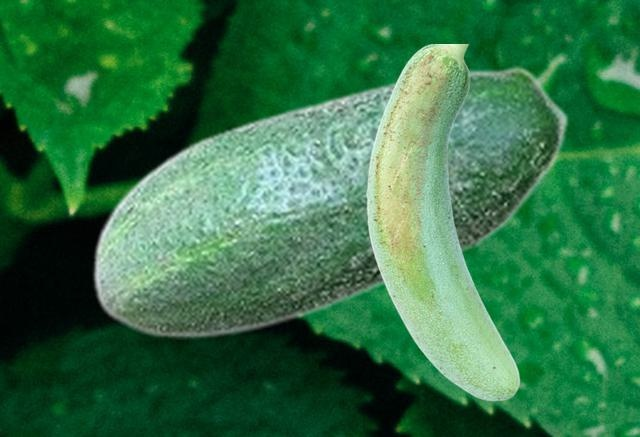cucumber: (91, 65, 569, 338), (366, 44, 519, 400)
